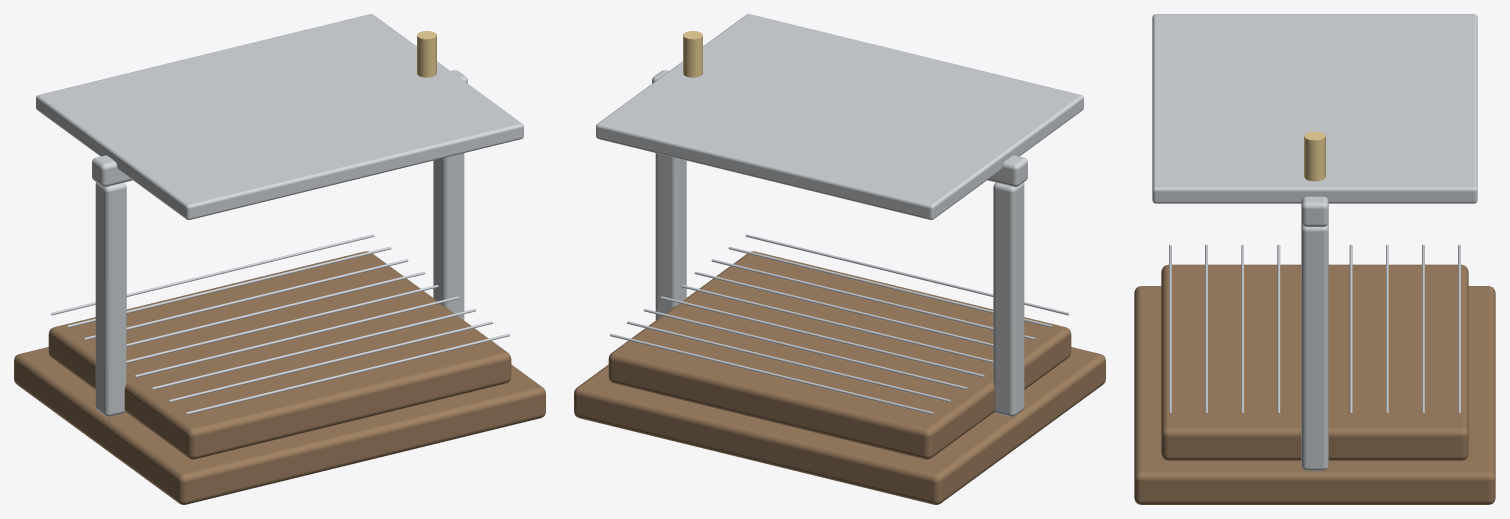
File: chocolate-making-and-confectionery-confectionery-guita-fe0b233a__39157.glb
3 renders of one model, left to right at view 1: azimuth 30°, elevation 25°; view 2: azimuth 150°, elevation 25°; view 3: azimuth 270°, elevation 25°, orthographic. The views are drawn at different scales.
Parts seen in each view (by area): view 1: confectionery-guitar-cutter; view 2: confectionery-guitar-cutter; view 3: confectionery-guitar-cutter.
Part boxes in pixels (left/top/right/bottom): confectionery-guitar-cutter: left=14, top=14, right=545, bottom=504; confectionery-guitar-cutter: left=574, top=14, right=1105, bottom=504; confectionery-guitar-cutter: left=1134, top=14, right=1495, bottom=504.
Size of the model in its own units: 0.5 by 0.43 by 0.4.
